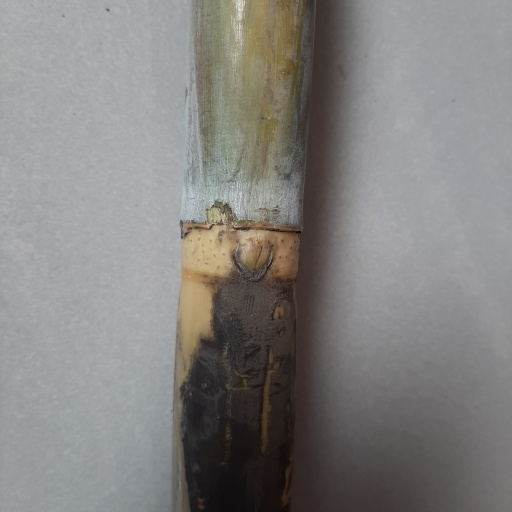Bud: (231, 238, 274, 282)
